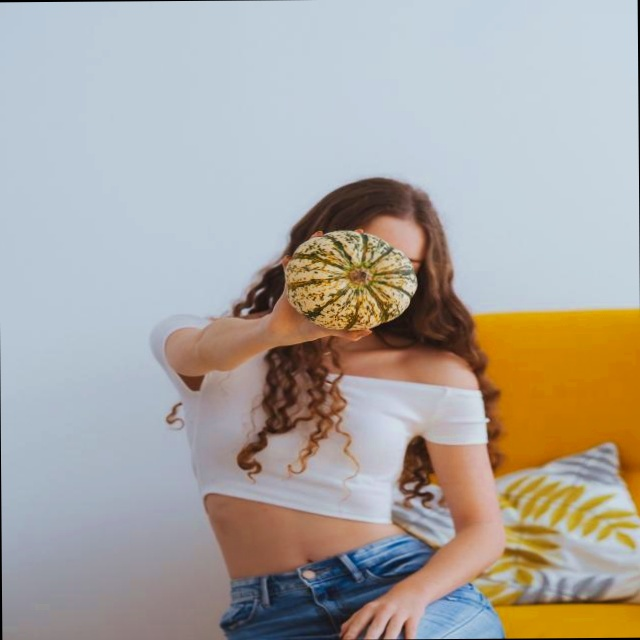Crop_Top: (189, 383, 410, 581)
Sleeveless: (410, 345, 482, 393)
low_neckline: (215, 322, 411, 495)
